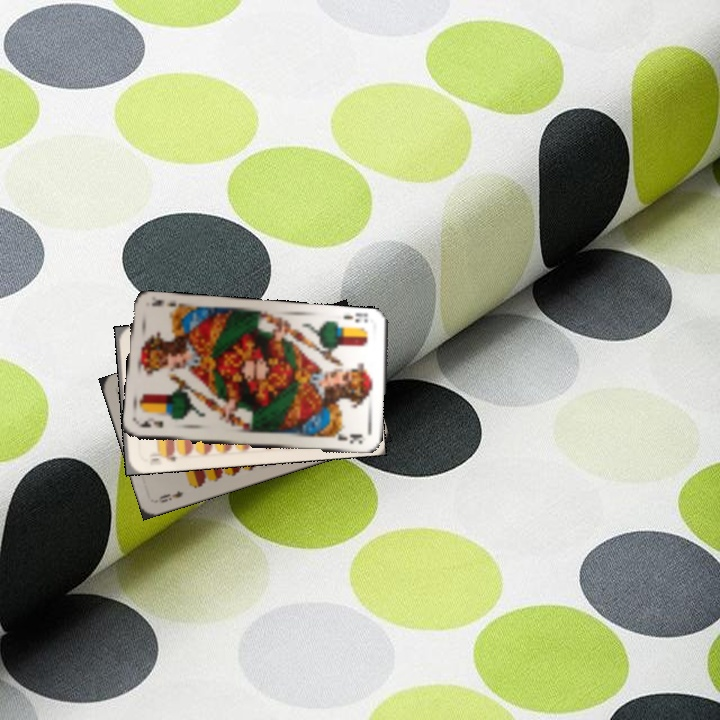E10: (145, 447, 178, 464)
E9: (154, 487, 186, 505)
EK: (339, 310, 371, 325), (137, 416, 166, 431)
